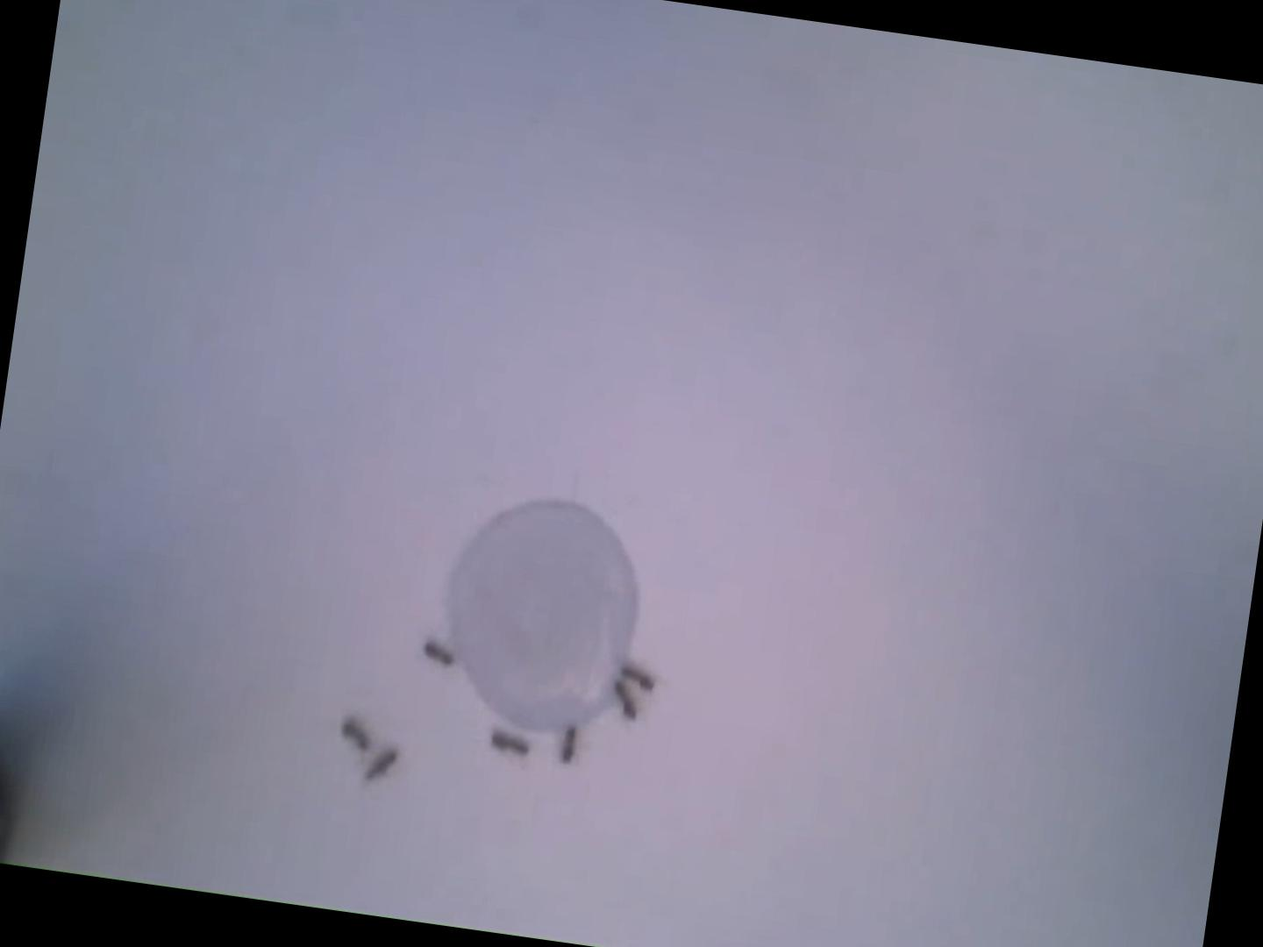Ant: (365, 743, 400, 785), (491, 727, 535, 758), (341, 716, 377, 753), (615, 677, 644, 719), (621, 662, 660, 692), (424, 638, 460, 668), (560, 724, 582, 766)
